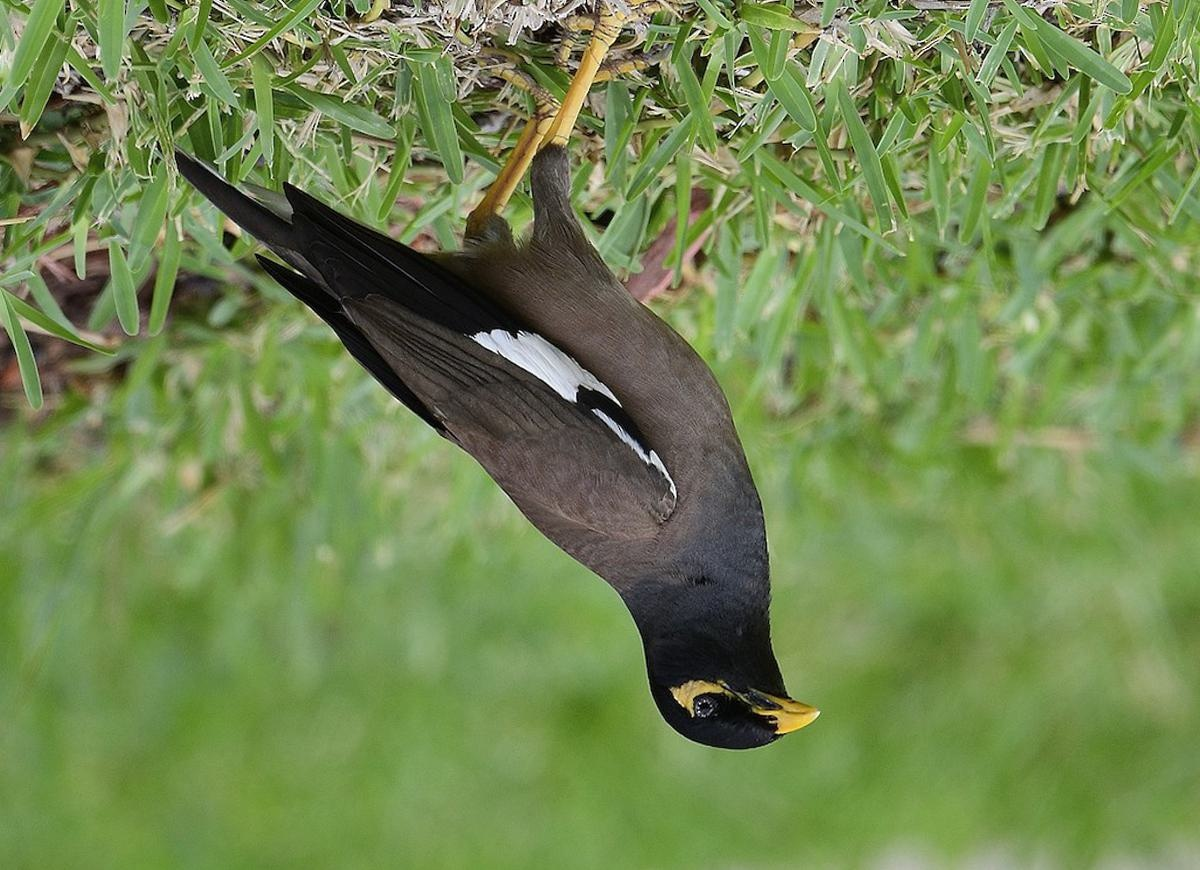myna: (365, 121, 936, 783)
